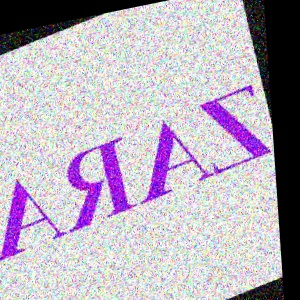zara: (263, 25, 271, 113)
